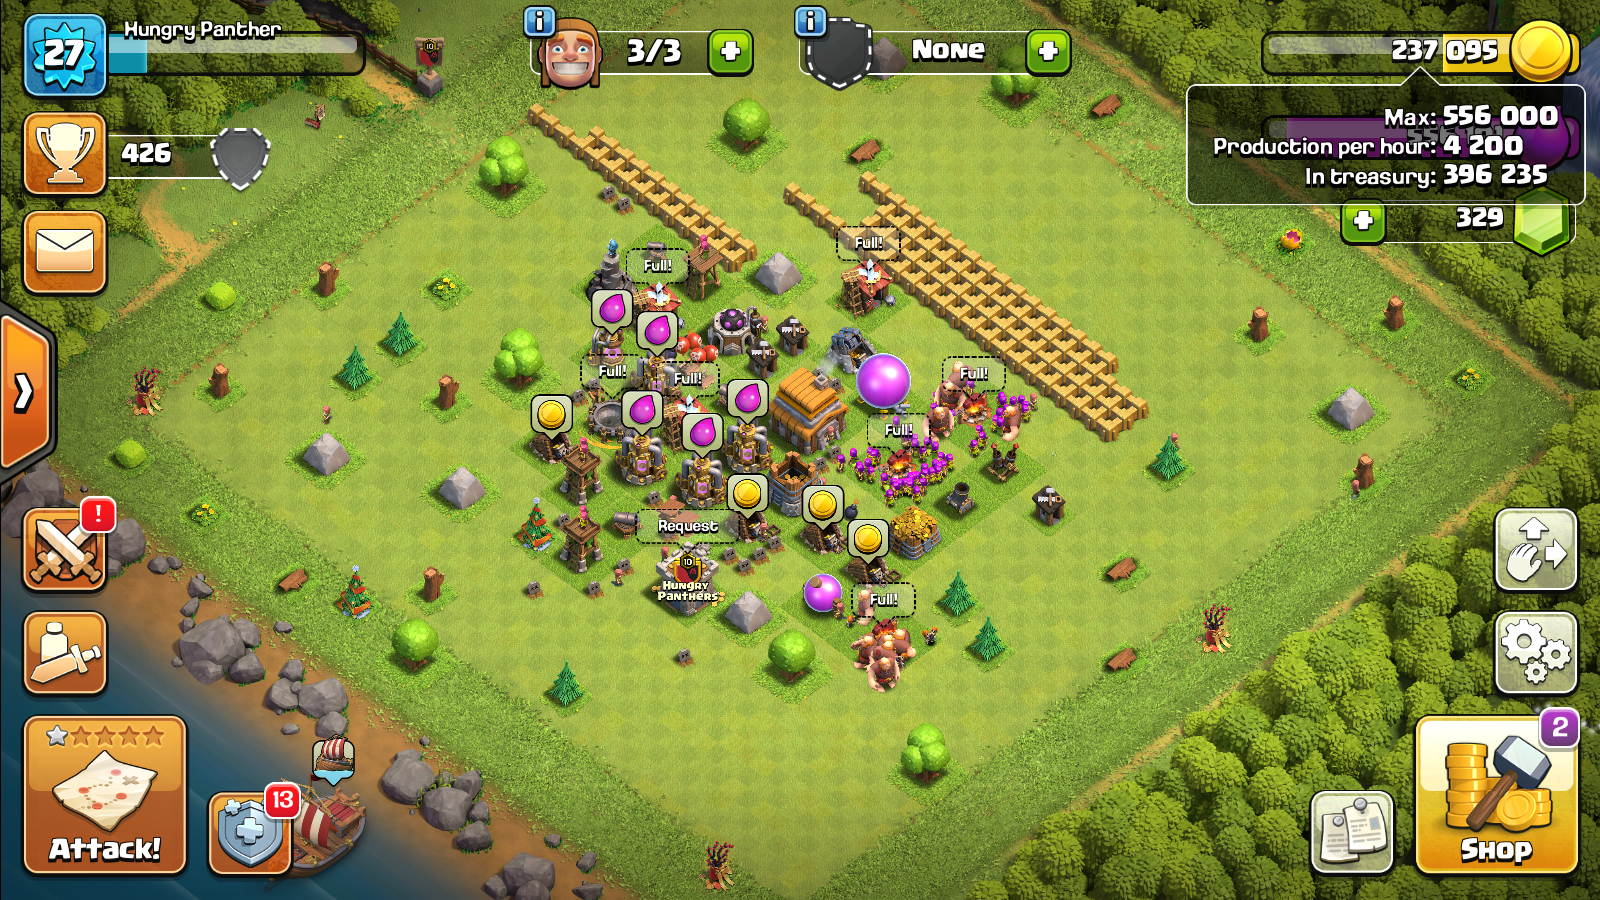army_full: (626, 246, 688, 284), (833, 226, 903, 257), (942, 358, 1009, 387), (868, 415, 930, 445)
army_menu: (23, 611, 107, 698)
elixer_collect: (620, 388, 664, 430), (727, 379, 767, 415), (593, 290, 631, 327), (638, 311, 675, 348), (684, 416, 721, 451)
gold_collect: (531, 395, 574, 433), (847, 520, 893, 555), (726, 478, 770, 514), (807, 484, 842, 522)
resource_details: (1184, 84, 1590, 205)
start_attack: (27, 714, 185, 873)
